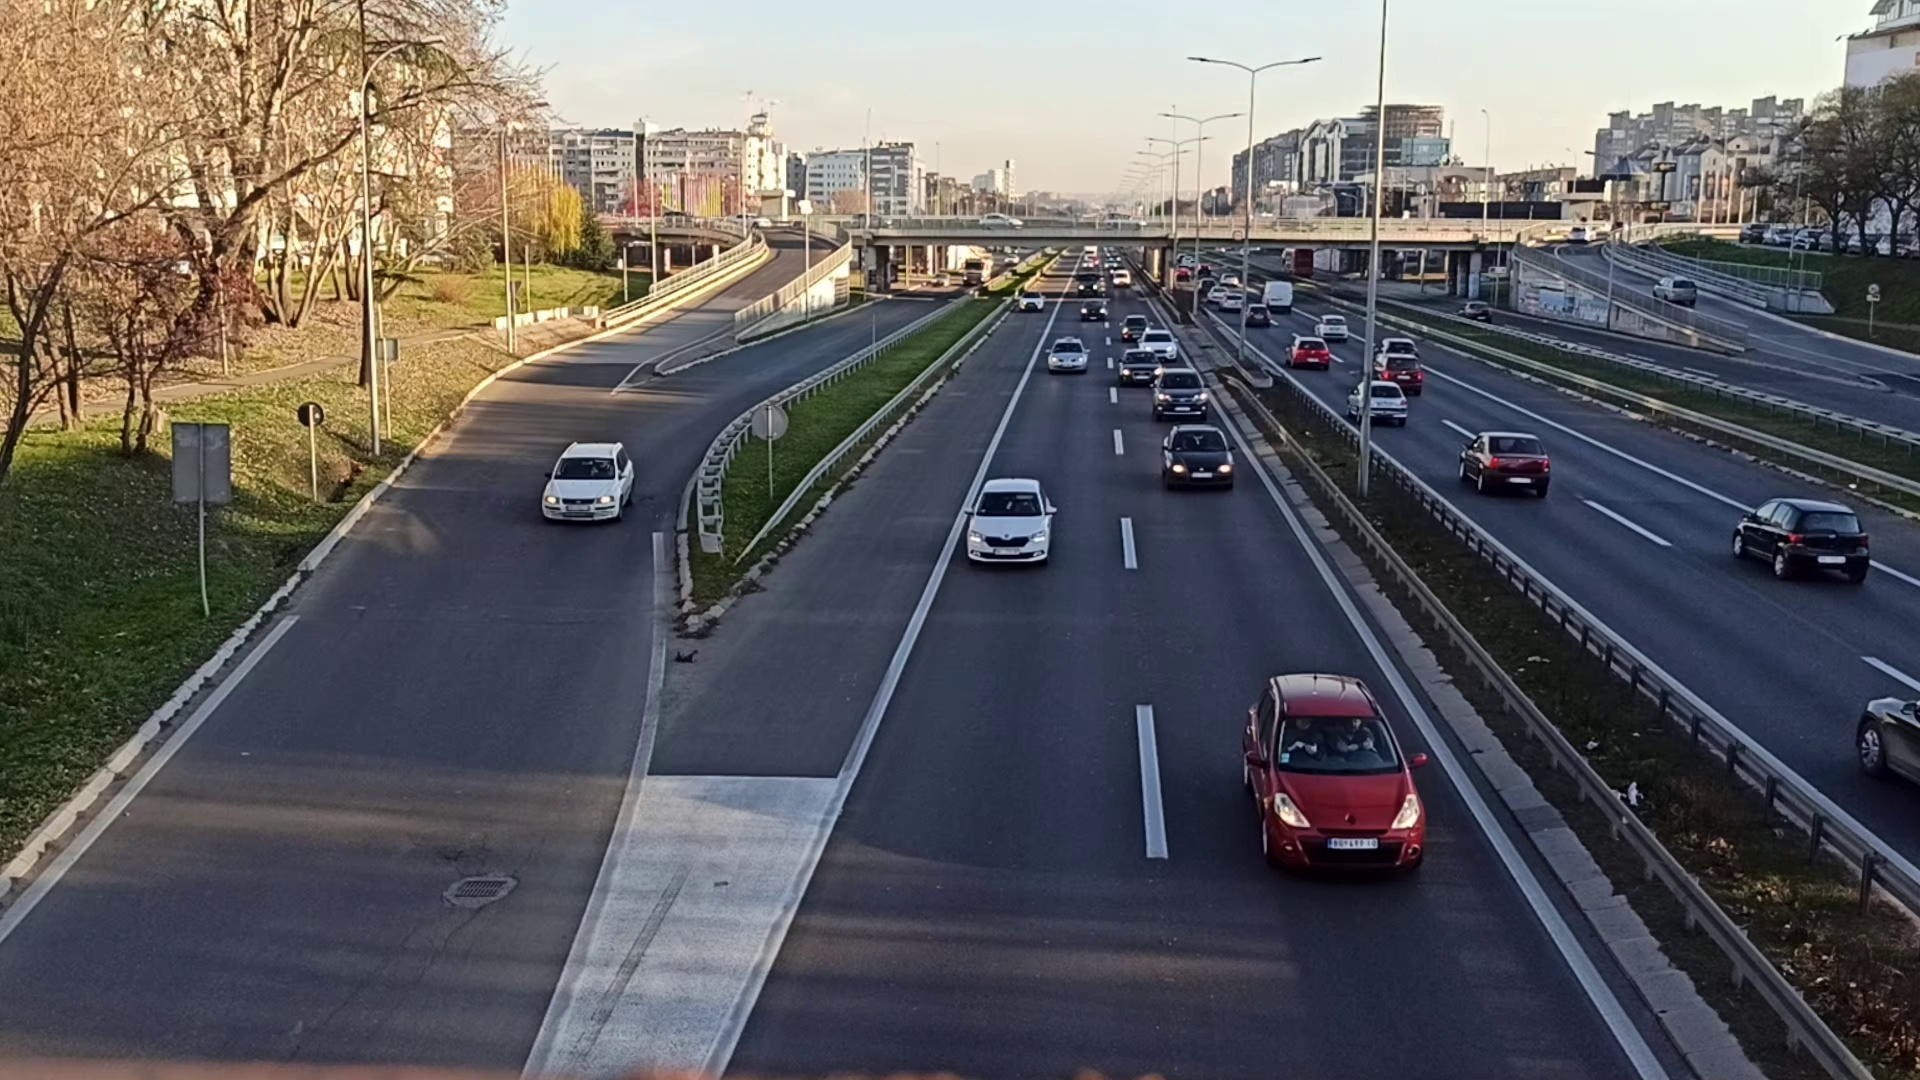car: (1240, 665, 1429, 874), (1731, 495, 1869, 585), (541, 439, 634, 527), (967, 475, 1054, 564), (1458, 427, 1555, 497), (1160, 422, 1236, 489), (1151, 368, 1207, 419), (1349, 381, 1406, 422), (1373, 353, 1423, 393), (1044, 336, 1091, 375), (1282, 334, 1329, 368), (1118, 349, 1159, 382), (1139, 328, 1178, 357), (1315, 315, 1349, 342), (1120, 314, 1146, 342), (1244, 305, 1273, 328), (1079, 299, 1108, 322), (1021, 291, 1044, 313), (1222, 294, 1245, 313), (1113, 270, 1133, 287), (1077, 280, 1098, 294)
truck: (963, 255, 993, 285)
